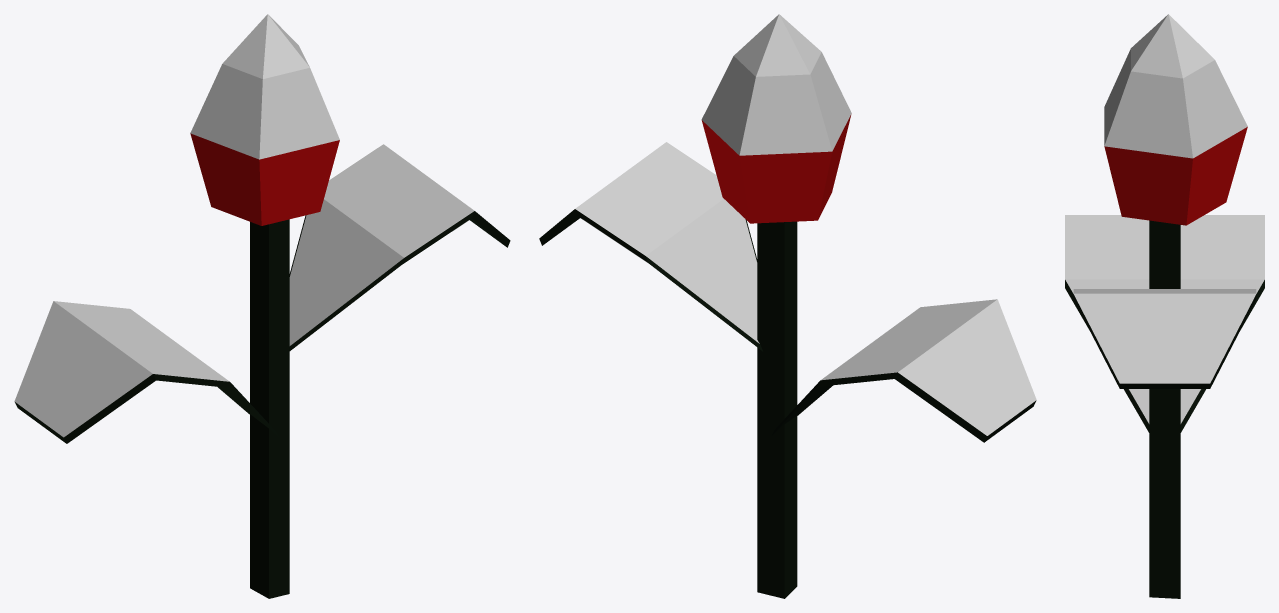
The model's file is Flower_3_Snow.obj.
3 views of the same model, side by side, from view 1: azimuth 30°, elevation 25°; view 2: azimuth 150°, elevation 25°; view 3: azimuth 270°, elevation 25° (orthographic).
Parts seen in each view (by area): view 1: Flower_3_Snow_Cube.013; view 2: Flower_3_Snow_Cube.013; view 3: Flower_3_Snow_Cube.013.
Boxes of the visible parts, x1,y1,x2,y2 form: Flower_3_Snow_Cube.013: [14, 14, 510, 598]; Flower_3_Snow_Cube.013: [539, 14, 1036, 598]; Flower_3_Snow_Cube.013: [1065, 14, 1264, 598].
Bounding box in the file's own units: 0.6189 × 0.7587 × 0.2379.
